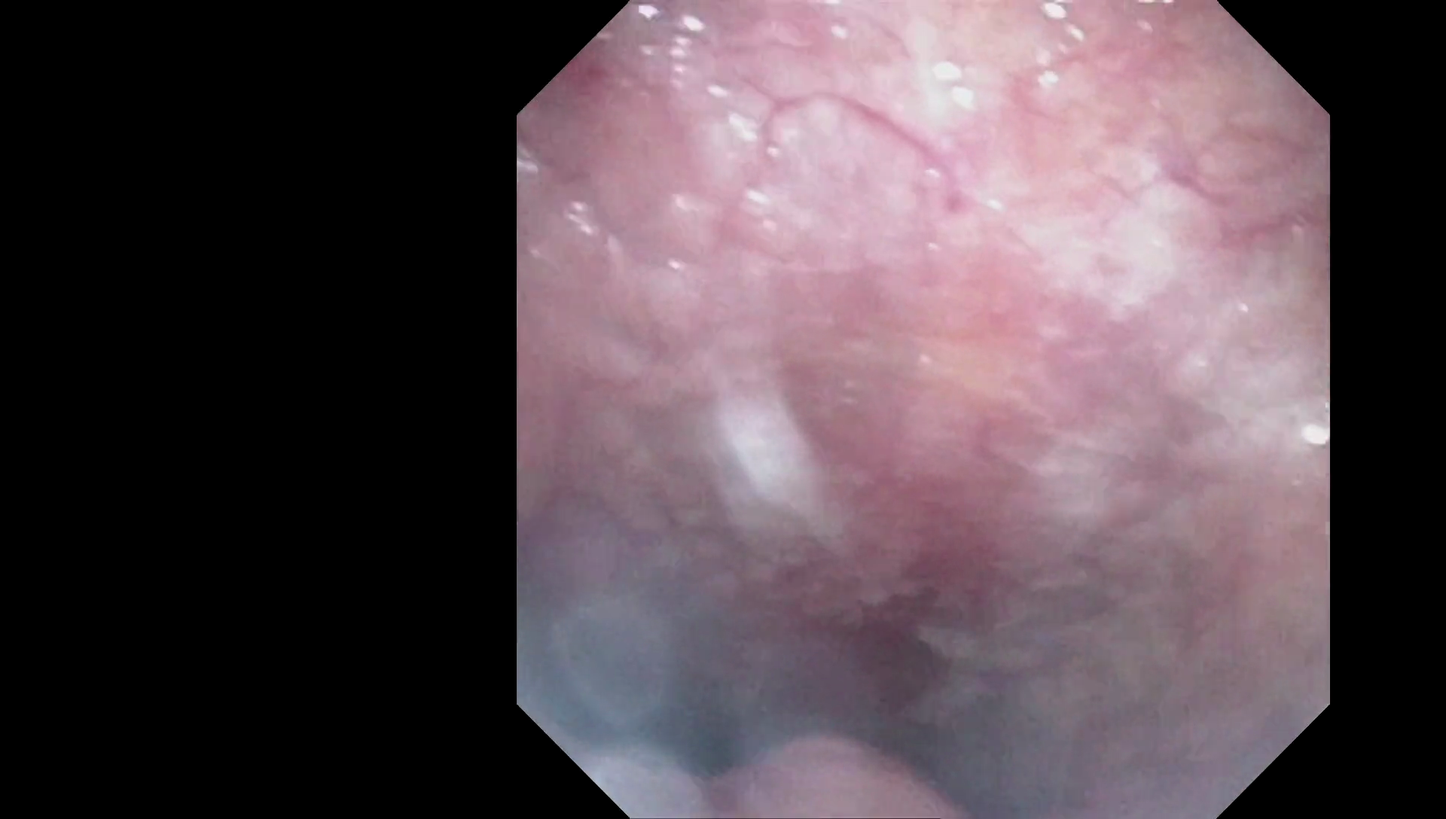next: (809, 656, 1081, 815), (556, 639, 797, 794)
